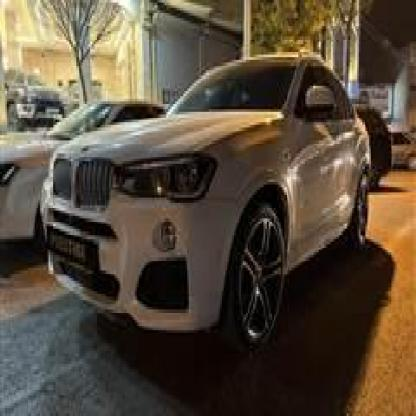Car: (31, 52, 371, 346), (0, 93, 177, 262), (386, 111, 416, 171)
